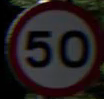Speed limit: (4, 4, 97, 89)
